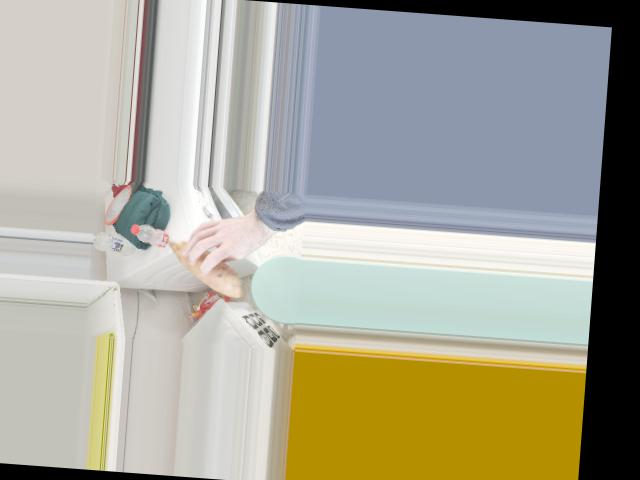sweet_potato: (168, 230, 235, 296)
